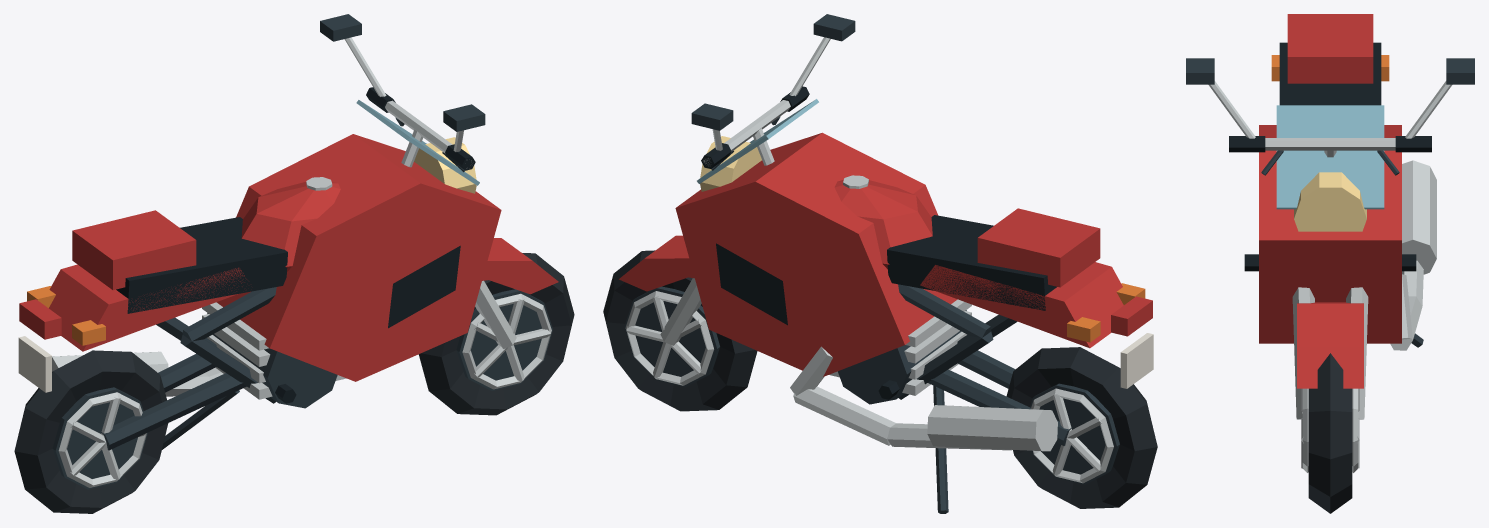
File: b03_faired_sport_motorcycle.glb
3 renders of one model, left to right at view 1: azimuth 30°, elevation 25°; view 2: azimuth 150°, elevation 25°; view 3: azimuth 270°, elevation 25°, orthographic. The views are drawn at different scales.
Visible parts, largest first — view 1: b03_faired_sport_motorcycle; view 2: b03_faired_sport_motorcycle; view 3: b03_faired_sport_motorcycle.
Part boxes in pixels (left/top/right/bottom): b03_faired_sport_motorcycle: left=14, top=14, right=574, bottom=513; b03_faired_sport_motorcycle: left=603, top=14, right=1157, bottom=513; b03_faired_sport_motorcycle: left=1186, top=14, right=1474, bottom=513.
Bounding box in the file's own units: 2.15 × 1.36 × 0.91.
